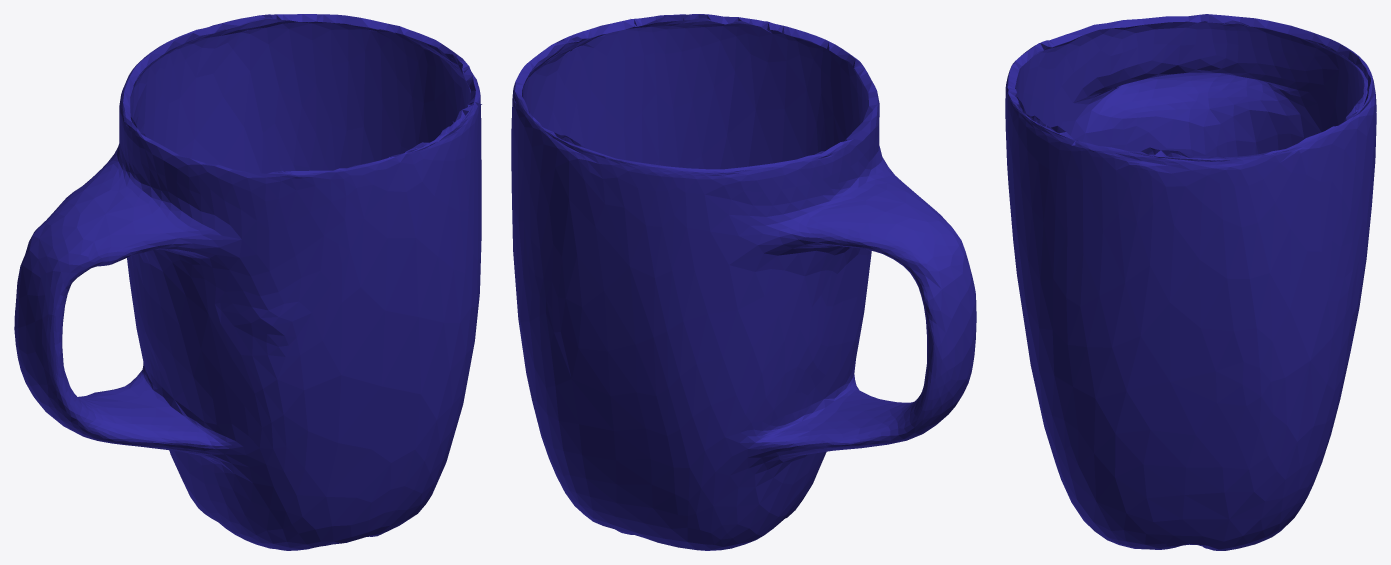
File: BlueCeramicIkeaMug.dae
3 renders of one model, left to right at view 1: azimuth 30°, elevation 25°; view 2: azimuth 150°, elevation 25°; view 3: azimuth 270°, elevation 25°, orthographic.
Parts seen in each view (by area): view 1: BlueCeramicIkeaMug; view 2: BlueCeramicIkeaMug; view 3: BlueCeramicIkeaMug.
Boxes of the visible parts, left/top/right/bottom form: BlueCeramicIkeaMug: left=14, top=14, right=481, bottom=550; BlueCeramicIkeaMug: left=511, top=14, right=976, bottom=550; BlueCeramicIkeaMug: left=1005, top=14, right=1376, bottom=550.
Bounding box in the file's own units: 0.1112 × 0.0818 × 0.1063.
